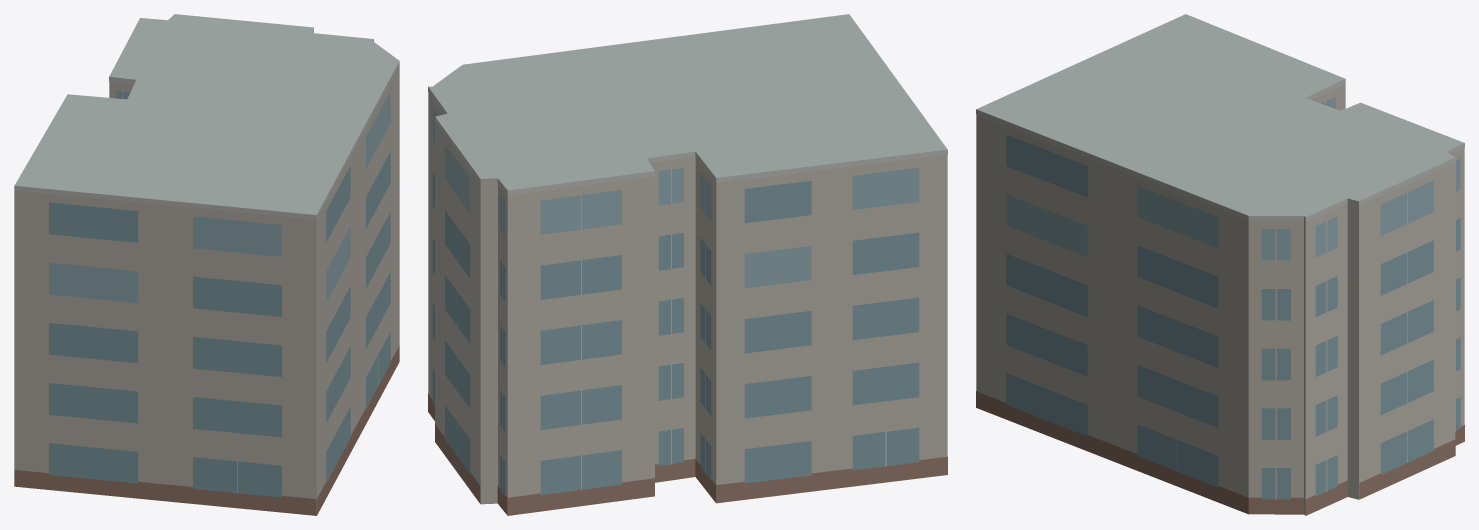
Rendered from survey-upis-32662461.glb.
3 renders of one model, left to right at view 1: azimuth 30°, elevation 25°; view 2: azimuth 150°, elevation 25°; view 3: azimuth 270°, elevation 25°, orthographic. The views are drawn at different scales.
Parts seen in each view (by area): view 1: survey-upis-32662461.tmp; view 2: survey-upis-32662461.tmp; view 3: survey-upis-32662461.tmp.
Boxes of the visible parts, <box> form: survey-upis-32662461.tmp: <box>14,14,399,515</box>; survey-upis-32662461.tmp: <box>428,14,947,515</box>; survey-upis-32662461.tmp: <box>976,14,1464,515</box>.
Size of the model in its own units: 22.3 by 15.25 by 22.63.
